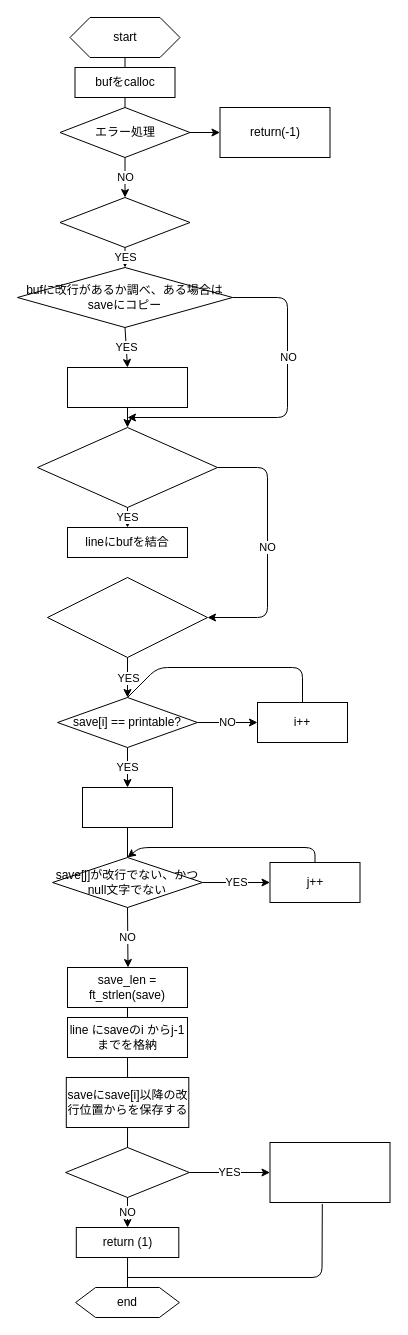
Image size: 408x1335. Some labels were removed from this diagram. Here are the shapes that lost their labels. From the top down, the centre of each, then its label:
At point (124, 222): "read != (-1)".
At point (127, 387): "*lineにbufの改行までを貼り付け".
At point (127, 467): "bufに改行がないかつreadで読みだした値は0じゃないか？".
At point (127, 617): "readで読み出した値が0か？".
At point (127, 807): "j = i".
At point (127, 1172): "res<=0".
At point (329, 1172): "return (res)".
